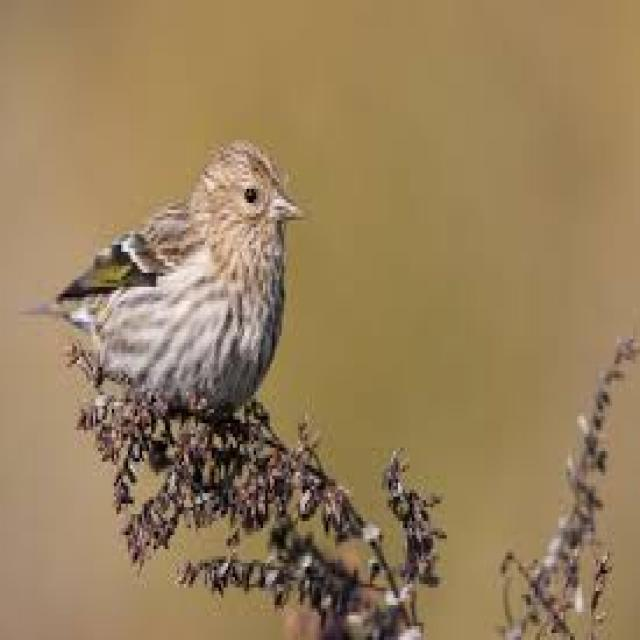bird: (40, 88, 338, 444)
